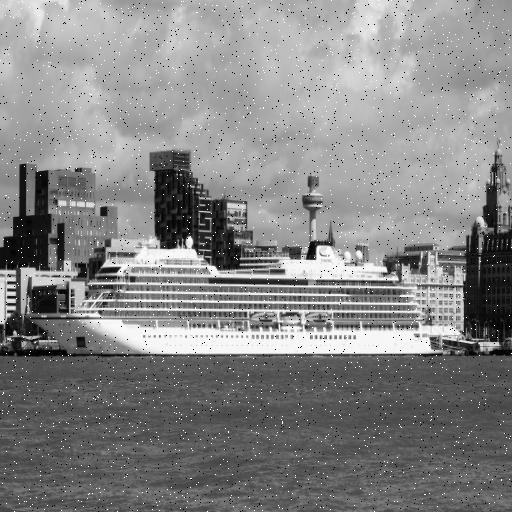cruises: (23, 222, 449, 366)
